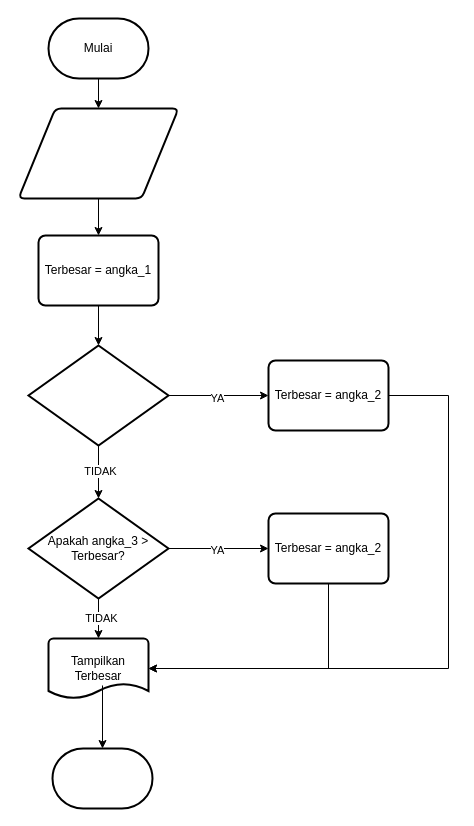
The diagram is 474 pixels wide and 826 high, and some of its shapes have lost their labels. Each missing label, with the box of its shape:
Apakah angka_2 > Terbesar?: (27, 344, 169, 446)
Masukkan angka_1, angka_2, angka_3: (17, 107, 179, 199)
Selesai: (51, 747, 153, 809)
